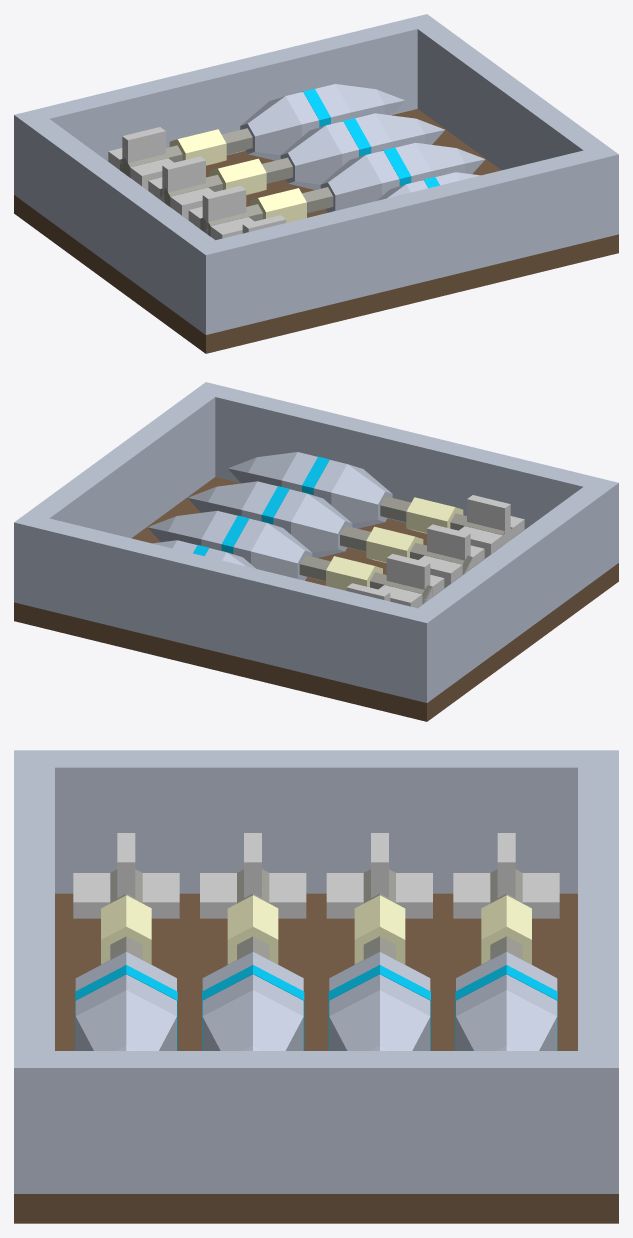
File: ce_ammo_mortar_emp_c.obj
3 views of the same model, one above another, from view 1: azimuth 30°, elevation 25°; view 2: azimuth 150°, elevation 25°; view 3: azimuth 270°, elevation 25° (orthographic). The views are drawn at different scales.
Visible parts, largest first — view 1: ce_ammo_mortar_emp_c_3, ce_ammo_mortar_emp_c_1, ce_ammo_mortar_emp_c_4, ce_ammo_mortar_emp_c_2, ce_ammo_mortar_emp_c_0, ce_ammo_mortar_emp_c_37, ce_ammo_mortar_emp_c_27, ce_ammo_mortar_emp_c_17, ce_ammo_mortar_emp_c_36, ce_ammo_mortar_emp_c_24, ce_ammo_mortar_emp_c_26, ce_ammo_mortar_emp_c_34 (+20 smaller); view 2: ce_ammo_mortar_emp_c_4, ce_ammo_mortar_emp_c_1, ce_ammo_mortar_emp_c_3, ce_ammo_mortar_emp_c_2, ce_ammo_mortar_emp_c_0, ce_ammo_mortar_emp_c_7, ce_ammo_mortar_emp_c_17, ce_ammo_mortar_emp_c_27, ce_ammo_mortar_emp_c_14, ce_ammo_mortar_emp_c_6, ce_ammo_mortar_emp_c_16, ce_ammo_mortar_emp_c_26 (+20 smaller); view 3: ce_ammo_mortar_emp_c_2, ce_ammo_mortar_emp_c_1, ce_ammo_mortar_emp_c_0, ce_ammo_mortar_emp_c_3, ce_ammo_mortar_emp_c_4, ce_ammo_mortar_emp_c_21, ce_ammo_mortar_emp_c_31, ce_ammo_mortar_emp_c_11, ce_ammo_mortar_emp_c_41, ce_ammo_mortar_emp_c_13, ce_ammo_mortar_emp_c_43, ce_ammo_mortar_emp_c_23 (+25 smaller).
Boxes of the visible parts, x1,y1,x2,y2 form: ce_ammo_mortar_emp_c_3: [216, 150, 596, 329]; ce_ammo_mortar_emp_c_1: [14, 109, 228, 334]; ce_ammo_mortar_emp_c_4: [37, 19, 417, 169]; ce_ammo_mortar_emp_c_2: [405, 14, 618, 239]; ce_ammo_mortar_emp_c_0: [14, 109, 618, 353]; ce_ammo_mortar_emp_c_37: [240, 96, 301, 160]; ce_ammo_mortar_emp_c_27: [280, 125, 341, 189]; ce_ammo_mortar_emp_c_17: [320, 155, 381, 212]; ce_ammo_mortar_emp_c_36: [169, 129, 226, 165]; ce_ammo_mortar_emp_c_24: [202, 186, 246, 240]; ce_ammo_mortar_emp_c_26: [209, 158, 266, 194]; ce_ammo_mortar_emp_c_34: [162, 156, 205, 224]; ce_ammo_mortar_emp_c_4: [36, 518, 416, 697]; ce_ammo_mortar_emp_c_1: [404, 477, 618, 702]; ce_ammo_mortar_emp_c_3: [215, 387, 595, 537]; ce_ammo_mortar_emp_c_2: [14, 382, 227, 607]; ce_ammo_mortar_emp_c_0: [14, 477, 618, 721]; ce_ammo_mortar_emp_c_7: [331, 464, 392, 528]; ce_ammo_mortar_emp_c_17: [291, 493, 352, 557]; ce_ammo_mortar_emp_c_27: [251, 523, 312, 580]; ce_ammo_mortar_emp_c_14: [467, 495, 510, 562]; ce_ammo_mortar_emp_c_6: [406, 497, 463, 533]; ce_ammo_mortar_emp_c_16: [366, 526, 423, 562]; ce_ammo_mortar_emp_c_26: [326, 556, 382, 590]; ce_ammo_mortar_emp_c_2: [14, 1051, 618, 1193]; ce_ammo_mortar_emp_c_1: [14, 750, 618, 893]; ce_ammo_mortar_emp_c_0: [14, 893, 618, 1223]; ce_ammo_mortar_emp_c_3: [14, 767, 54, 1050]; ce_ammo_mortar_emp_c_4: [578, 767, 618, 1050]; ce_ammo_mortar_emp_c_21: [202, 990, 303, 1050]; ce_ammo_mortar_emp_c_31: [329, 990, 430, 1050]; ce_ammo_mortar_emp_c_11: [75, 990, 176, 1050]; ce_ammo_mortar_emp_c_41: [456, 990, 557, 1050]; ce_ammo_mortar_emp_c_13: [73, 873, 179, 918]; ce_ammo_mortar_emp_c_43: [453, 873, 559, 918]; ce_ammo_mortar_emp_c_23: [200, 873, 306, 918].
Size of the model in its own units: 0.92 by 0.21 by 0.74.
